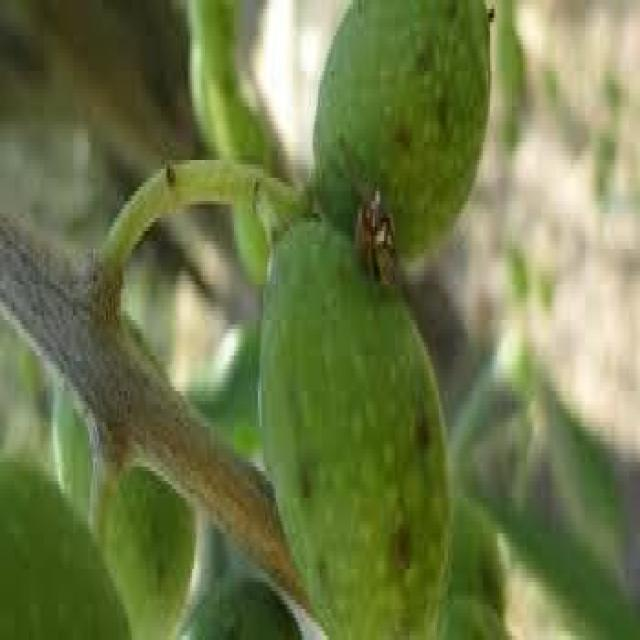Olive Fruit Fly: (258, 213, 448, 636), (311, 0, 497, 274)
